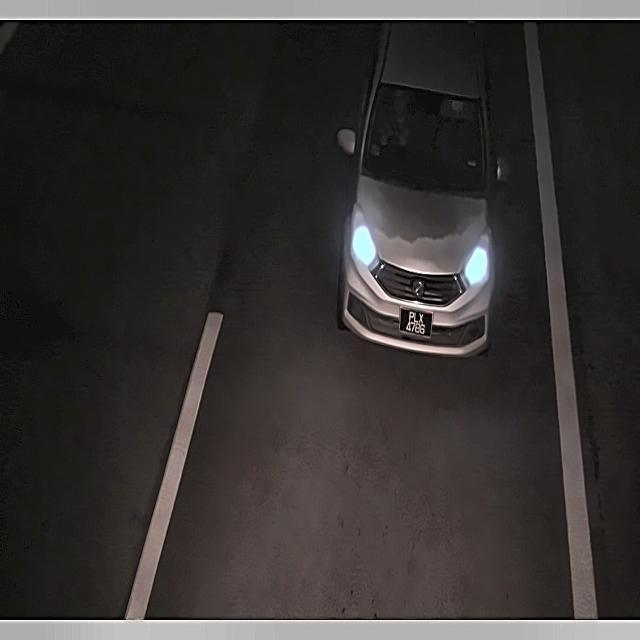car: (394, 301, 436, 343)
